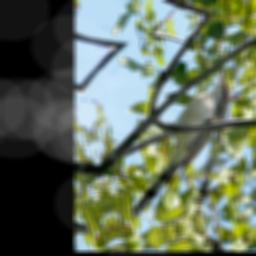Cuckoo: (107, 66, 251, 221)
